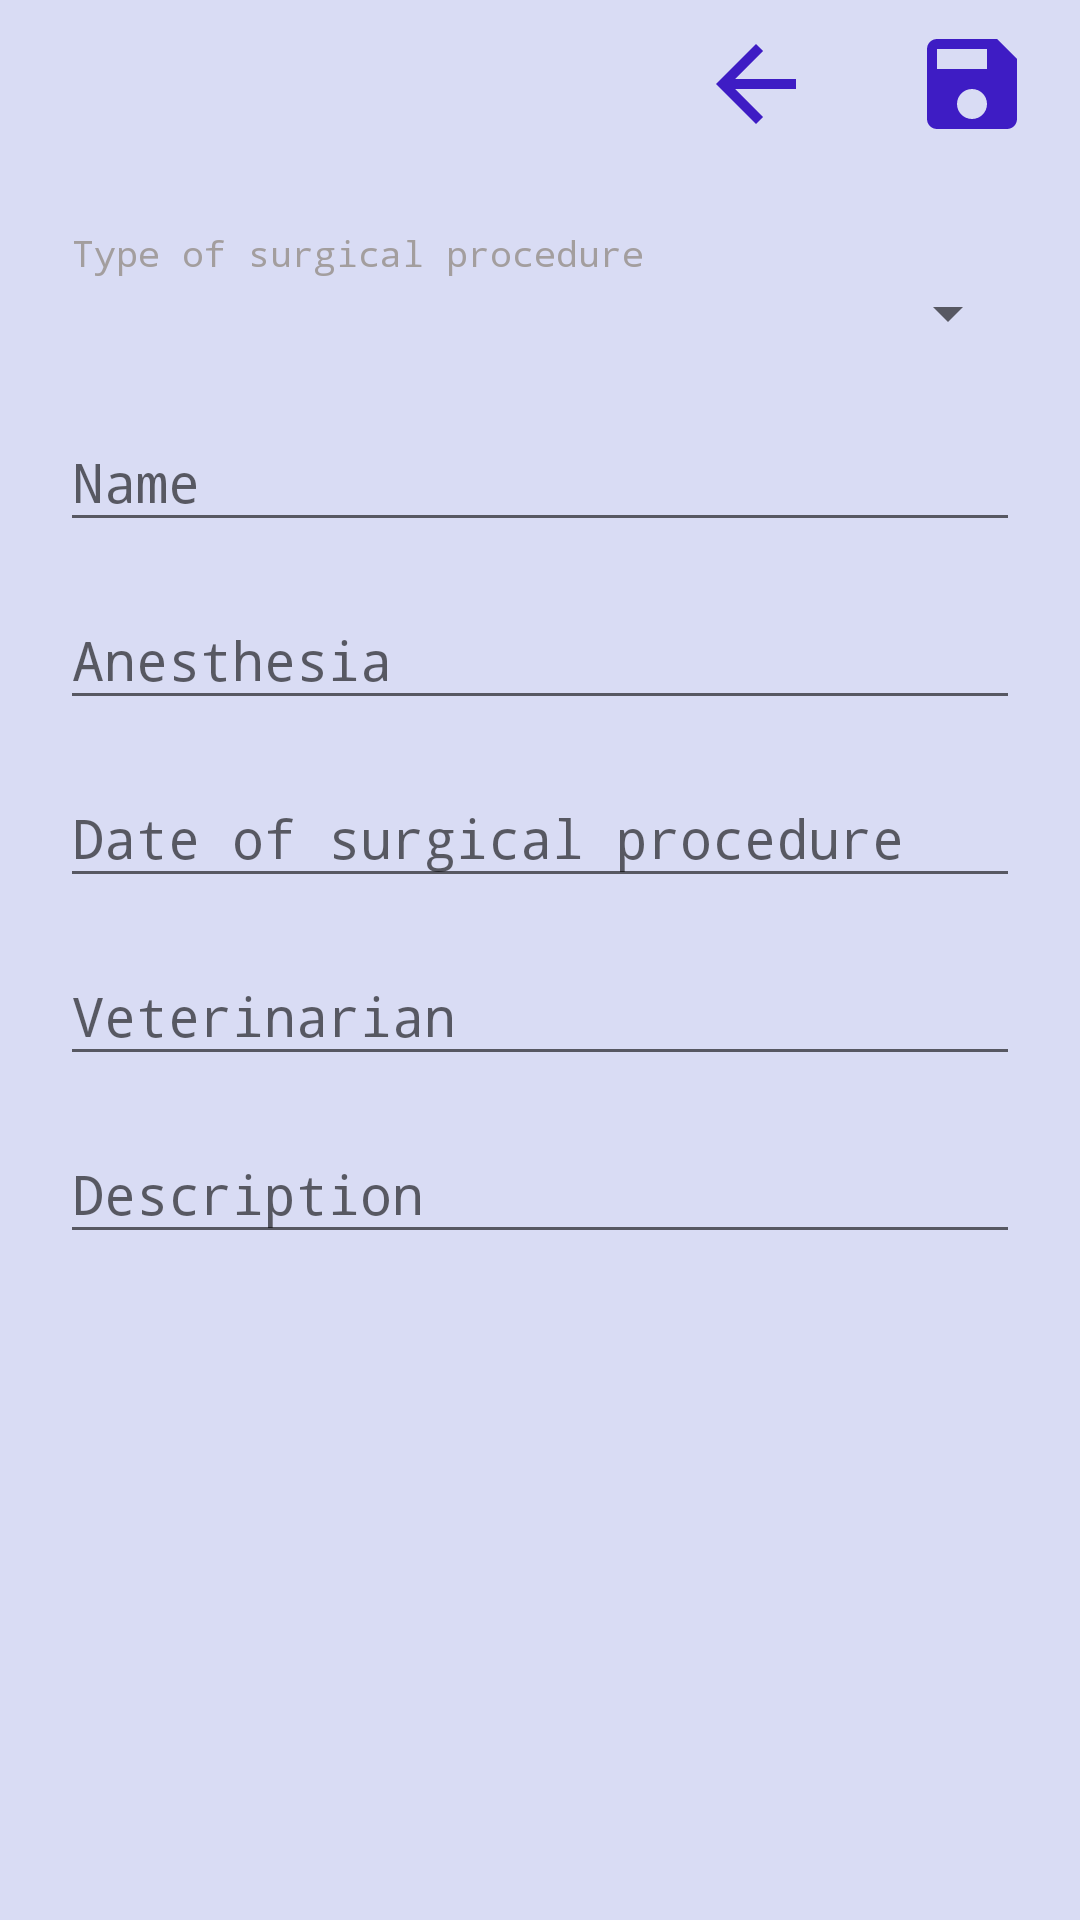

Where to tap for icons on this 1080px×1920px app screen, as point (x, y):
back: point (756, 84)
save: point (972, 84)
